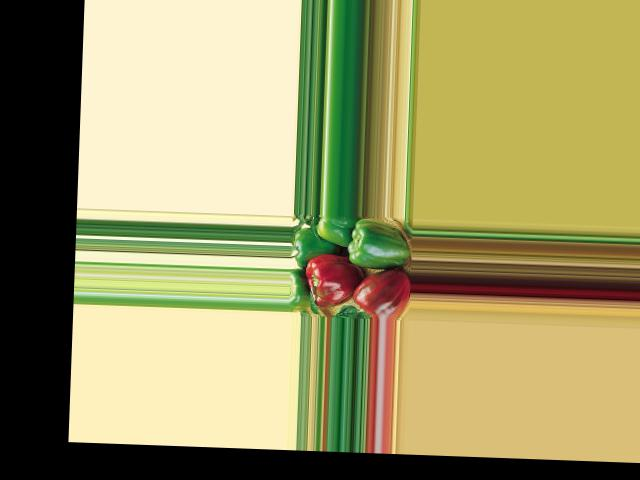bell_pepper: (352, 270, 411, 318)
